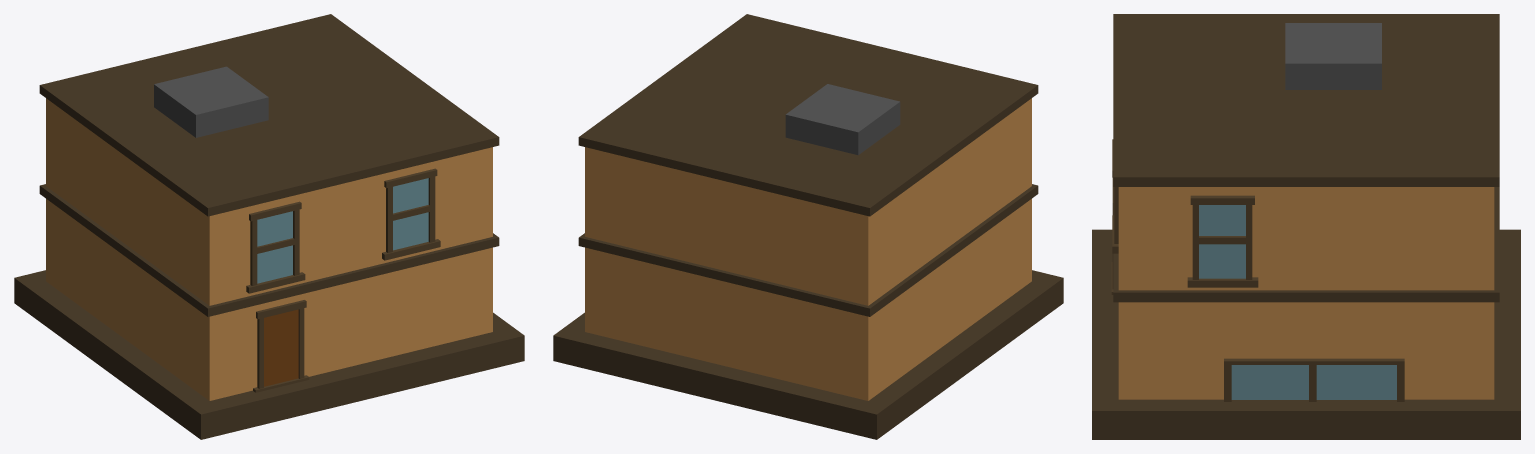
The model's file is hotel.glb.
The picture shows the model from 3 angles, left to right: view 1: azimuth 30°, elevation 25°; view 2: azimuth 150°, elevation 25°; view 3: azimuth 270°, elevation 25°; orthographic projection. The views are drawn at different scales.
Visible parts, largest first — view 1: Box (×11), Plane (×3); view 2: Box (×5); view 3: Box (×11), Plane (×2).
Boxes of the visible parts, bbox=[...] form: Box (×11): bbox=[14, 14, 524, 439]; Plane (×3): bbox=[257, 178, 428, 386]; Box (×5): bbox=[553, 14, 1063, 439]; Box (×11): bbox=[1092, 14, 1520, 439]; Plane (×2): bbox=[1199, 205, 1396, 399].
Bounding box in the file's own units: 0.8 × 0.5763 × 0.8.
